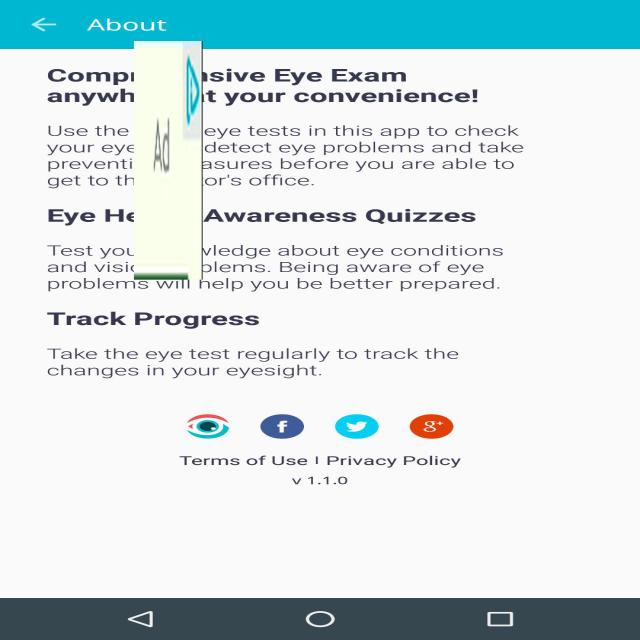sneaking: (134, 41, 203, 280)
